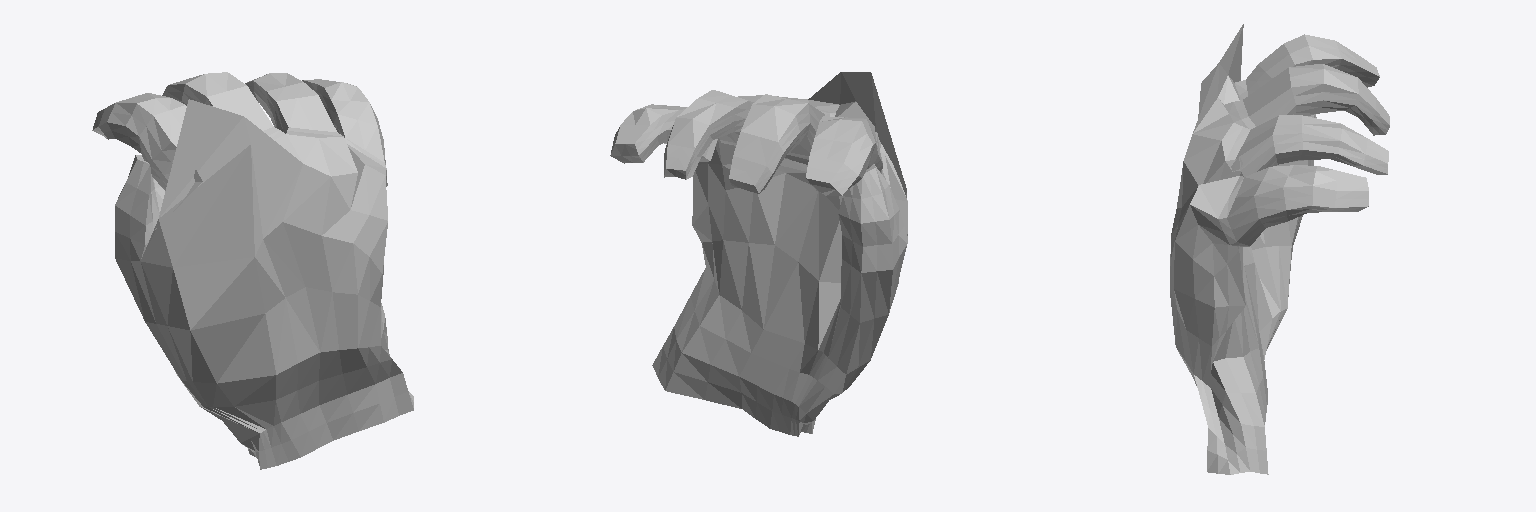
The model's file is grip0047.obj.
The picture shows the model from 3 angles: view 1: azimuth 30°, elevation 25°; view 2: azimuth 150°, elevation 25°; view 3: azimuth 270°, elevation 25°; orthographic projection.
Parts seen in each view (by area): view 1: Hand; view 2: Hand; view 3: Hand.
Part boxes in pixels (left/top/right/bottom): Hand: left=92, top=72, right=413, bottom=469; Hand: left=610, top=72, right=907, bottom=436; Hand: left=1170, top=24, right=1389, bottom=474.
Size of the model in its own units: 2.79 by 3.83 by 2.01.